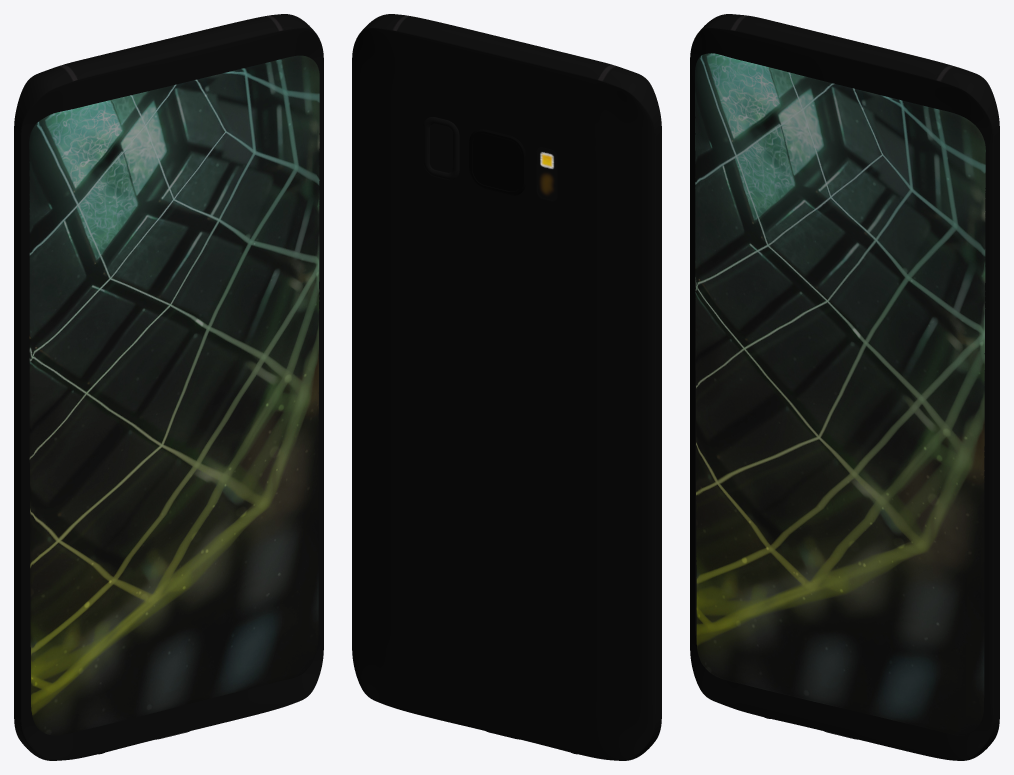
Rendered from smartphone.glb.
The picture shows the model from 3 angles, left to right: view 1: azimuth 30°, elevation 25°; view 2: azimuth 150°, elevation 25°; view 3: azimuth 330°, elevation 25°; orthographic projection.
Parts seen in each view (by area): view 1: Screen, Base; view 2: Base, Glass, Fingerprint, Flashlight, Camera; view 3: Screen, Base.
Boxes of the visible parts, x1,y1,x2,y2 form: Screen: [29, 55, 319, 735]; Base: [14, 14, 323, 760]; Base: [352, 14, 661, 760]; Glass: [472, 134, 521, 191]; Fingerprint: [423, 117, 459, 180]; Flashlight: [536, 147, 557, 201]; Camera: [469, 129, 526, 195]; Screen: [695, 53, 985, 735]; Base: [690, 14, 999, 760].
Size of the model in its own units: 73.5 by 160 by 8.54.
Materials: 9 (8 with a texture image).
